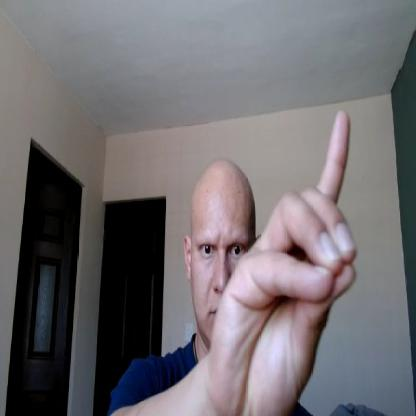D: (209, 108, 358, 415)
